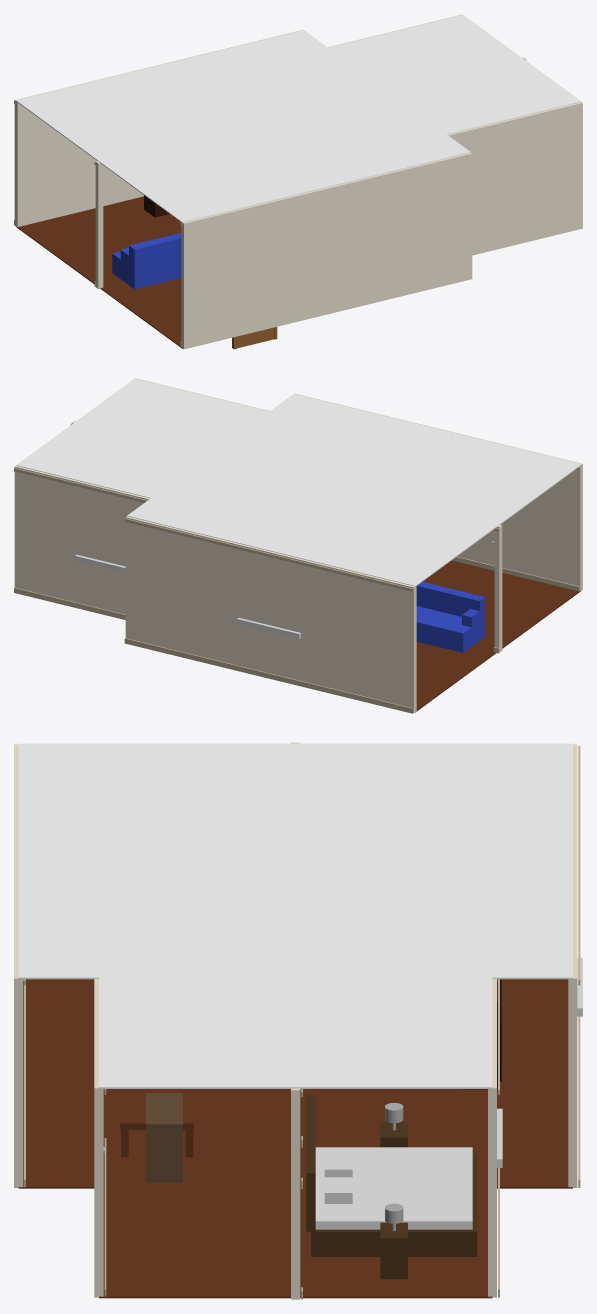
The model's file is ultra_detailed_2391.obj.
3 renders of one model, top to bottom at view 1: azimuth 30°, elevation 25°; view 2: azimuth 150°, elevation 25°; view 3: azimuth 270°, elevation 25°, orthographic. The views are drawn at different scales.
Visible parts, largest first — view 1: Living_Room_ceiling_Living_Room_ceiling_material, Living_Room_front_wall_Living_Room_front_wall_material, Bedroom_ceiling_Bedroom_ceiling_material, Bedroom_front_wall_Bedroom_front_wall_material, Living_Room_floor_Living_Room_floor_material, Living_Room_back_wall_Living_Room_back_wall_material, Living_Room_sofa_base_Living_Room_sofa_fabric, Living_Room_sofa_back_Living_Room_sofa_fabric.001, Living_Room_left_wall_Living_Room_left_wall_material, Living_Room_door_panel_Living_Room_door_door_material; view 2: Living_Room_ceiling_Living_Room_ceiling_material, Living_Room_back_wall_Living_Room_back_wall_material, Bedroom_ceiling_Bedroom_ceiling_material, Bedroom_back_wall_Bedroom_back_wall_material, Living_Room_floor_Living_Room_floor_material, Living_Room_front_wall_Living_Room_front_wall_material, Living_Room_sofa_base_Living_Room_sofa_fabric, Living_Room_back_wall_baseboard_Living_Room_back_wall_baseboard_, Living_Room_sofa_back_Living_Room_sofa_fabric.001, Living_Room_back_wall_crown_Living_Room_back_wall_baseboard_mate, Living_Room_left_wall_Living_Room_left_wall_material, Bedroom_back_wall_baseboard_Bedroom_back_wall_baseboard_material (+3 smaller); view 3: Living_Room_ceiling_Living_Room_ceiling_material, Bedroom_ceiling_Bedroom_ceiling_material, Living_Room_floor_Living_Room_floor_material, Bedroom_floor_Bedroom_floor_material, Bedroom_bed_mattress_Bedroom_bed_bedding, Bedroom_bed_base_Bedroom_bed_wood, Bedroom_dresser_Bedroom_dresser_material, Living_Room_front_wall_Living_Room_front_wall_material, Living_Room_back_wall_Living_Room_back_wall_material, Bedroom_front_wall_Bedroom_front_wall_material, Bedroom_back_wall_Bedroom_back_wall_material, Bedroom_right_wall_Bedroom_right_wall_material (+5 smaller).
Boxes of the visible parts, x1=… form: Living_Room_ceiling_Living_Room_ceiling_material: x1=16, y1=30, x2=470, y2=222; Living_Room_front_wall_Living_Room_front_wall_material: x1=181, y1=152, x2=472, y2=349; Bedroom_ceiling_Bedroom_ceiling_material: x1=278, y1=15, x2=581, y2=146; Bedroom_front_wall_Bedroom_front_wall_material: x1=447, y1=102, x2=582, y2=255; Living_Room_floor_Living_Room_floor_material: x1=16, y1=196, x2=182, y2=348; Living_Room_back_wall_Living_Room_back_wall_material: x1=14, y1=29, x2=303, y2=226; Living_Room_sofa_base_Living_Room_sofa_fabric: x1=112, y1=251, x2=181, y2=289; Living_Room_sofa_back_Living_Room_sofa_fabric.001: x1=129, y1=233, x2=181, y2=279; Living_Room_left_wall_Living_Room_left_wall_material: x1=95, y1=161, x2=103, y2=288; Living_Room_door_panel_Living_Room_door_door_material: x1=236, y1=327, x2=274, y2=348; Living_Room_ceiling_Living_Room_ceiling_material: x1=127, y1=394, x2=581, y2=586; Living_Room_back_wall_Living_Room_back_wall_material: x1=125, y1=516, x2=416, y2=712; Bedroom_ceiling_Bedroom_ceiling_material: x1=16, y1=378, x2=319, y2=508; Bedroom_back_wall_Bedroom_back_wall_material: x1=14, y1=465, x2=150, y2=614; Living_Room_floor_Living_Room_floor_material: x1=415, y1=560, x2=581, y2=712; Living_Room_front_wall_Living_Room_front_wall_material: x1=294, y1=393, x2=582, y2=590; Living_Room_sofa_base_Living_Room_sofa_fabric: x1=416, y1=606, x2=485, y2=652; Living_Room_back_wall_baseboard_Living_Room_back_wall_baseboard_: x1=124, y1=638, x2=413, y2=713; Living_Room_sofa_back_Living_Room_sofa_fabric.001: x1=416, y1=582, x2=485, y2=630; Living_Room_back_wall_crown_Living_Room_back_wall_baseboard_mate: x1=124, y1=518, x2=413, y2=591; Living_Room_left_wall_Living_Room_left_wall_material: x1=494, y1=524, x2=502, y2=652; Bedroom_back_wall_baseboard_Bedroom_back_wall_baseboard_material: x1=14, y1=587, x2=125, y2=619; Living_Room_ceiling_Living_Room_ceiling_material: x1=18, y1=743, x2=572, y2=979; Bedroom_ceiling_Bedroom_ceiling_material: x1=99, y1=936, x2=492, y2=1088; Living_Room_floor_Living_Room_floor_material: x1=18, y1=979, x2=572, y2=1188; Bedroom_floor_Bedroom_floor_material: x1=99, y1=1187, x2=492, y2=1298; Bedroom_bed_mattress_Bedroom_bed_bedding: x1=315, y1=1147, x2=472, y2=1229; Bedroom_bed_base_Bedroom_bed_wood: x1=311, y1=1153, x2=477, y2=1256; Bedroom_dresser_Bedroom_dresser_material: x1=146, y1=1093, x2=182, y2=1182; Living_Room_front_wall_Living_Room_front_wall_material: x1=14, y1=744, x2=23, y2=1187; Living_Room_back_wall_Living_Room_back_wall_material: x1=568, y1=744, x2=577, y2=1187; Bedroom_front_wall_Bedroom_front_wall_material: x1=94, y1=978, x2=103, y2=1297; Bedroom_back_wall_Bedroom_back_wall_material: x1=488, y1=978, x2=496, y2=1297; Bedroom_right_wall_Bedroom_right_wall_material: x1=291, y1=1088, x2=300, y2=1299.
Bounding box in the file's own units: 8.91 × 2.87 × 6.16.
